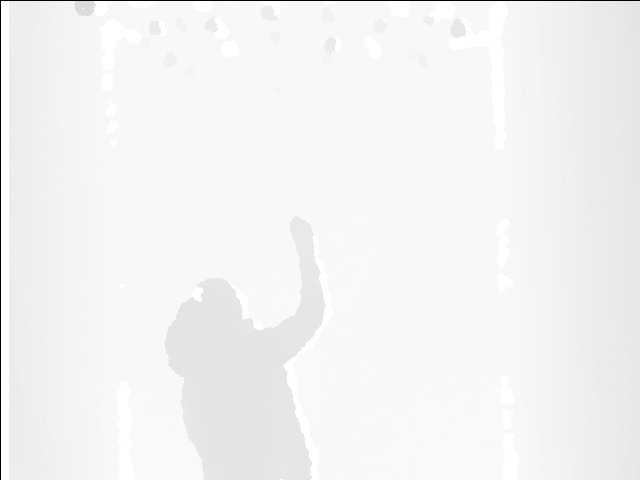hand: (289, 215, 319, 257)
